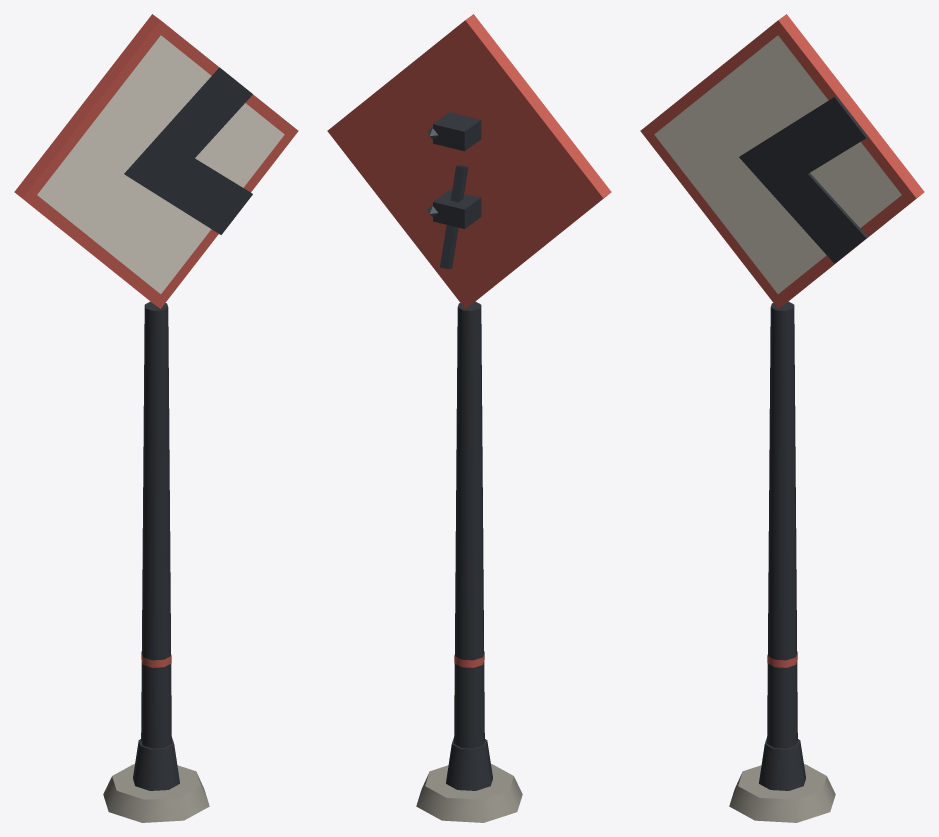
The model's file is road-sign.glb.
The picture shows the model from 3 angles, left to right: view 1: azimuth 30°, elevation 25°; view 2: azimuth 150°, elevation 25°; view 3: azimuth 330°, elevation 25°; orthographic projection.
Visible parts, largest first — view 1: Merged_city-poster, Merged_city-metal-dark, Merged_prop-body, Merged_city-curb; view 2: Merged_prop-body, Merged_city-metal-dark, Merged_city-curb; view 3: Merged_city-metal-dark, Merged_city-poster, Merged_prop-body, Merged_city-curb.
Boxes of the visible parts, <box> form: Merged_city-poster: <box>37,35,284,293</box>; Merged_city-metal-dark: <box>124,67,252,790</box>; Merged_prop-body: <box>14,14,298,667</box>; Merged_city-curb: <box>103,764,209,822</box>; Merged_prop-body: <box>327,14,611,667</box>; Merged_city-metal-dark: <box>433,112,492,790</box>; Merged_city-curb: <box>416,764,522,822</box>; Merged_city-metal-dark: <box>739,96,867,790</box>; Merged_city-poster: <box>654,35,901,293</box>; Merged_prop-body: <box>640,14,924,667</box>; Merged_city-curb: <box>729,764,835,822</box>.
Size of what is drawn, in the model's own units: 1.04 by 2.82 by 0.36.
